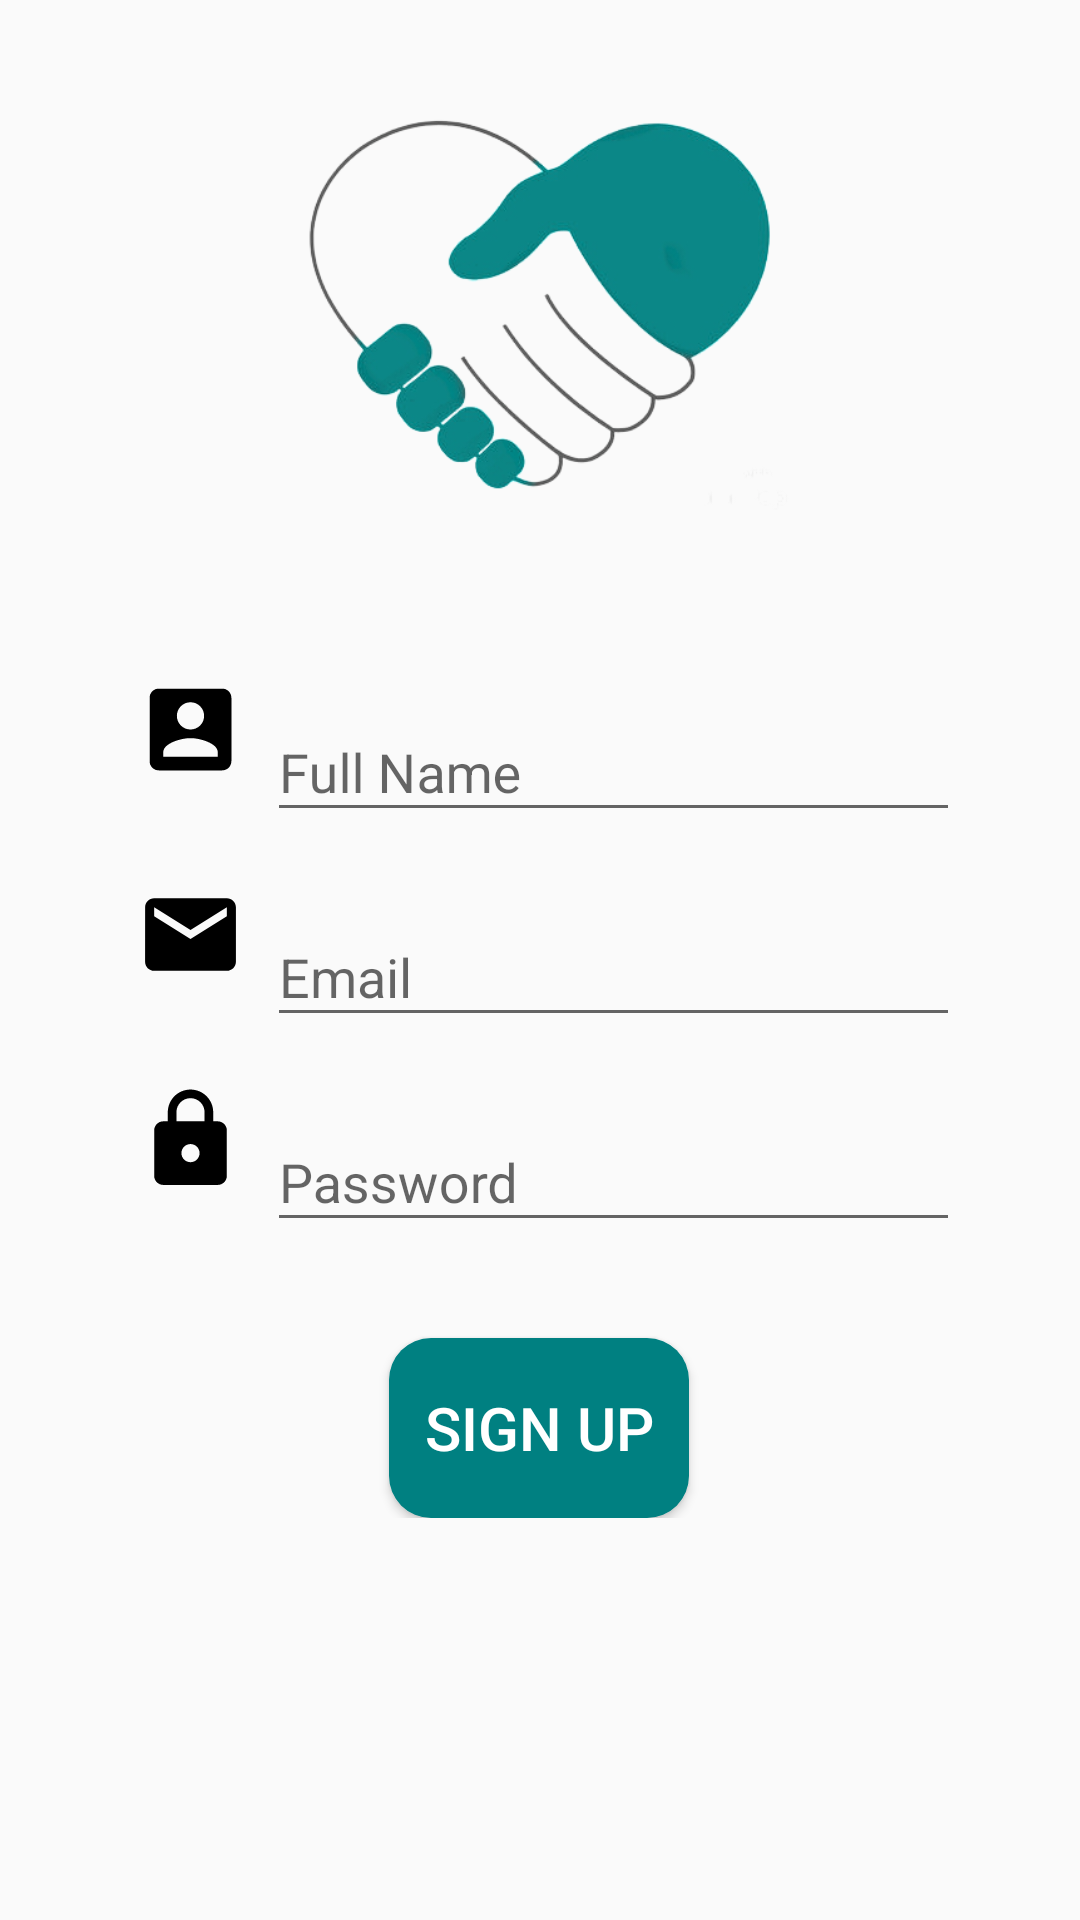

Locate icon controls on the screen. Image size 1080*1920, boxes as (x1, y1, x2, y2).
lock: (154, 1089, 227, 1185)
